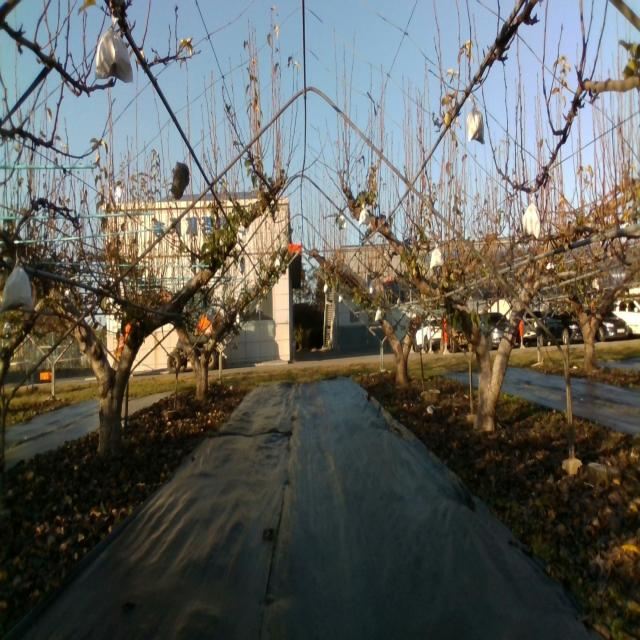pearbags: (94, 15, 138, 88), (0, 259, 32, 312), (466, 96, 486, 144), (522, 202, 542, 240), (428, 245, 444, 272), (236, 222, 248, 245), (359, 204, 369, 227)
